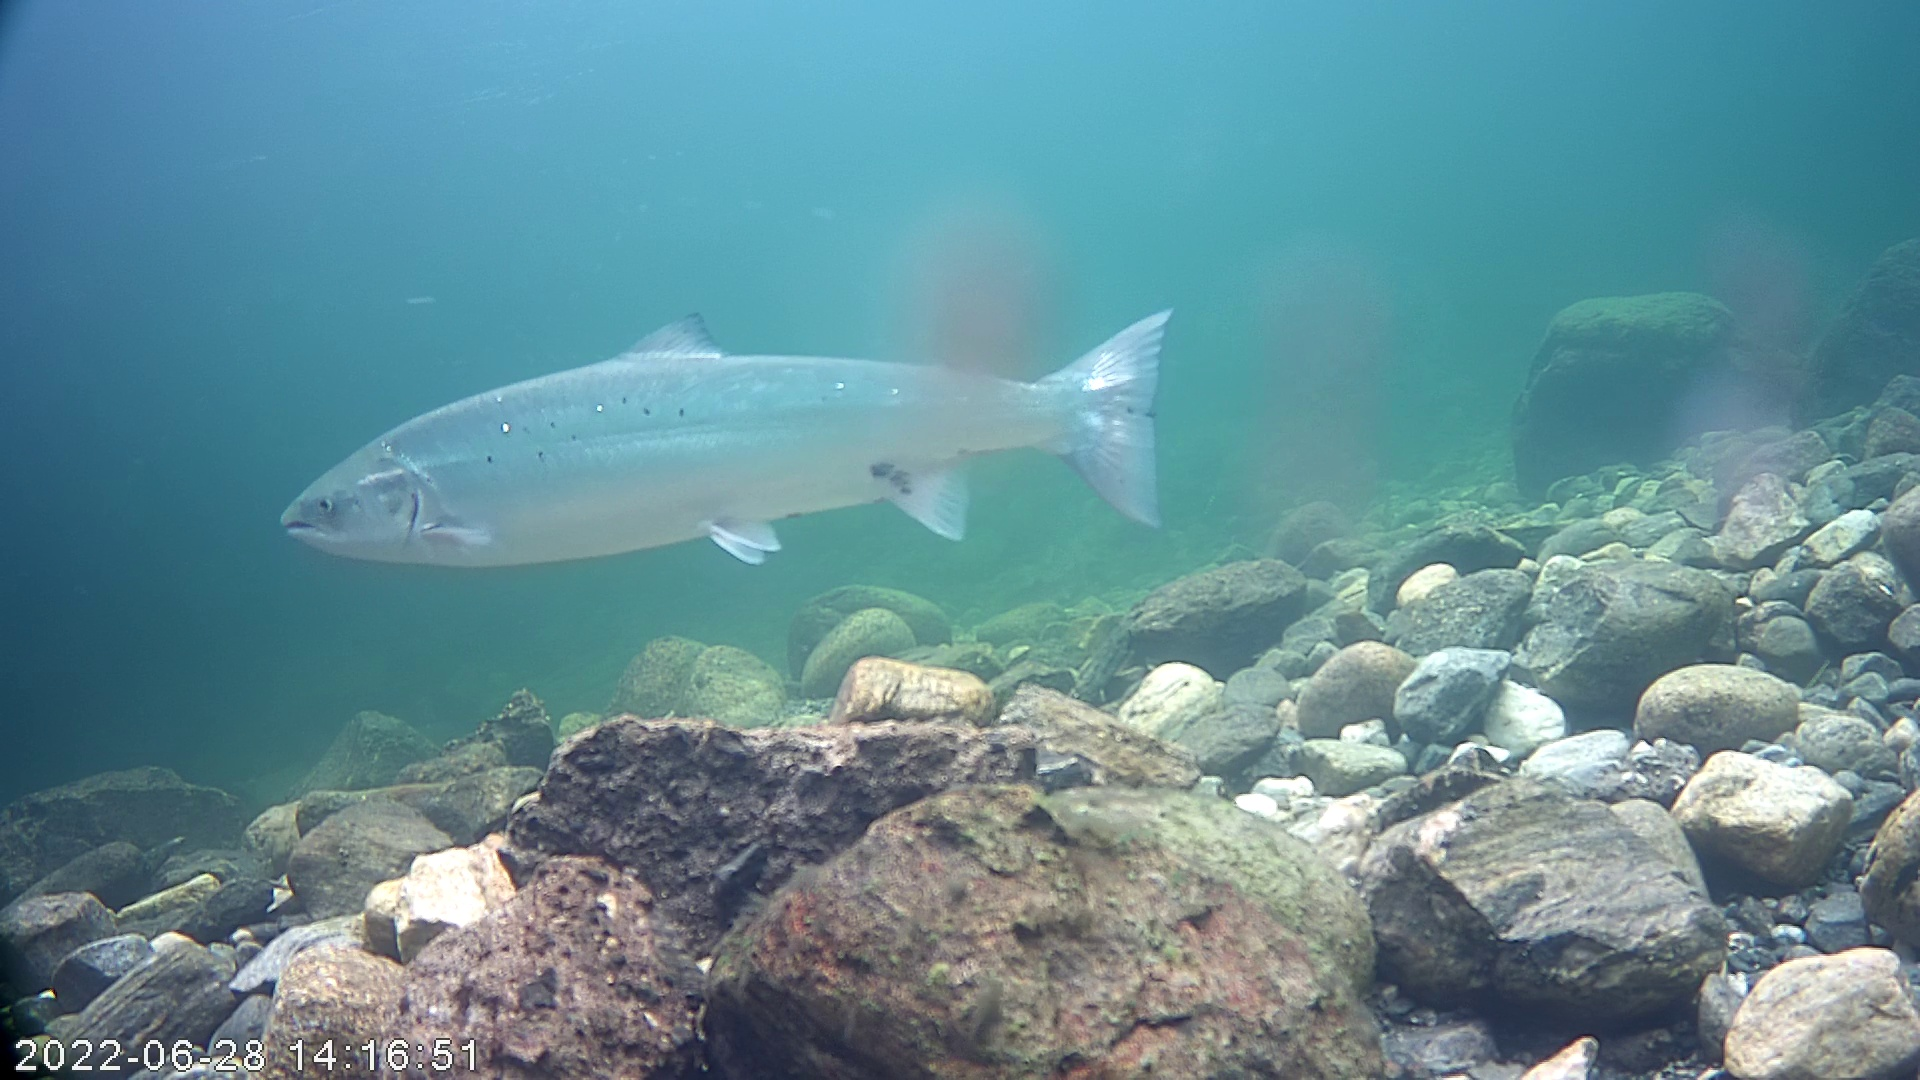salmon: (269, 208, 1185, 626)
